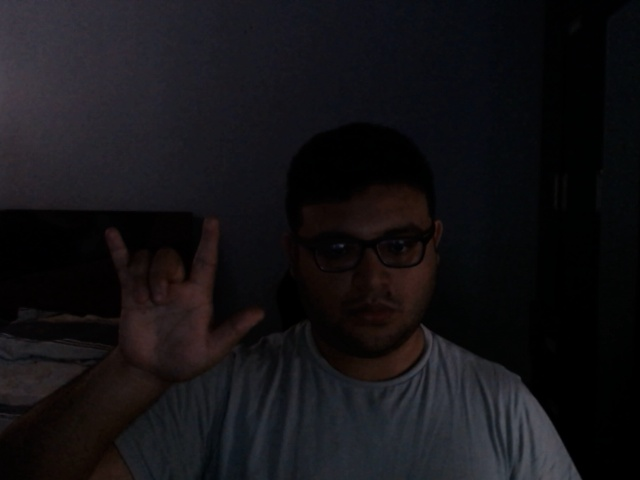I love you: (97, 207, 267, 391)
